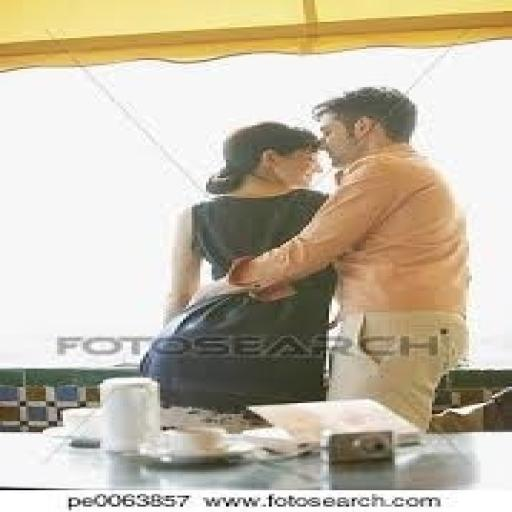hugging: (220, 85, 475, 432), (160, 120, 335, 325)
